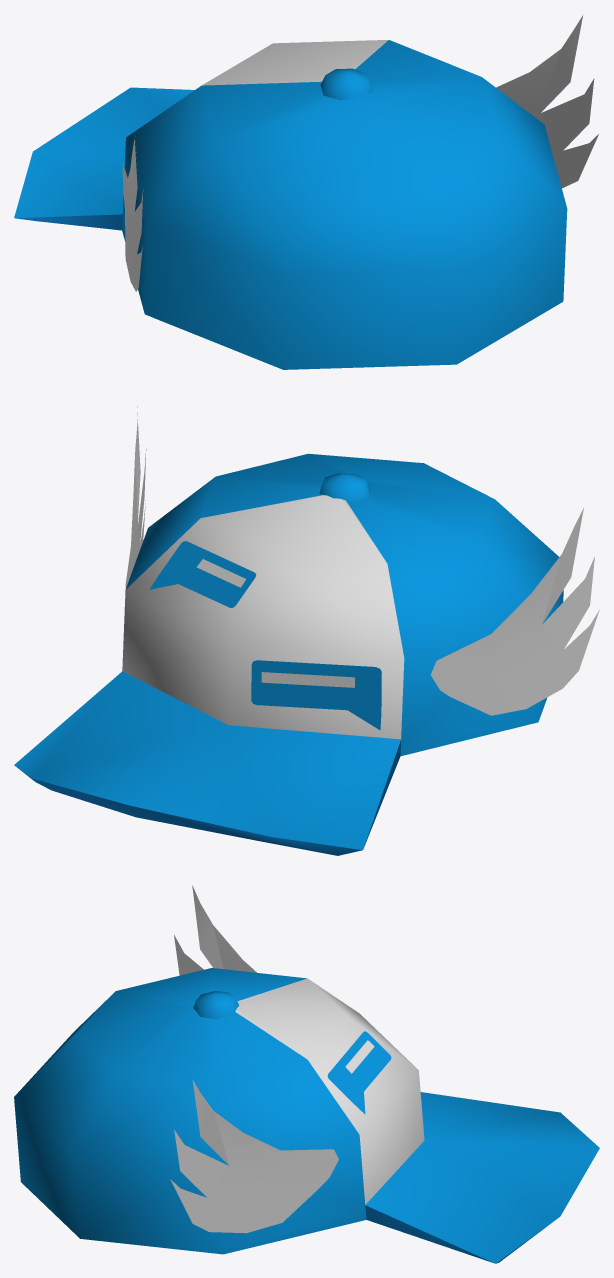
Rendered from hat_twitter.glb.
The picture shows the model from 3 angles, top to bottom: view 1: azimuth 30°, elevation 25°; view 2: azimuth 150°, elevation 25°; view 3: azimuth 270°, elevation 25°; orthographic projection. The views are drawn at different scales.
Visible parts, largest first — view 1: hat_twitter; view 2: hat_twitter; view 3: hat_twitter.
Part boxes in pixels (x1=…): hat_twitter: x1=14, y1=15, x2=598, y2=369; hat_twitter: x1=14, y1=406, x2=599, y2=855; hat_twitter: x1=14, y1=885, x2=599, y2=1263.
Bounding box in the file's own units: 0.3941 × 0.1993 × 0.4929.
